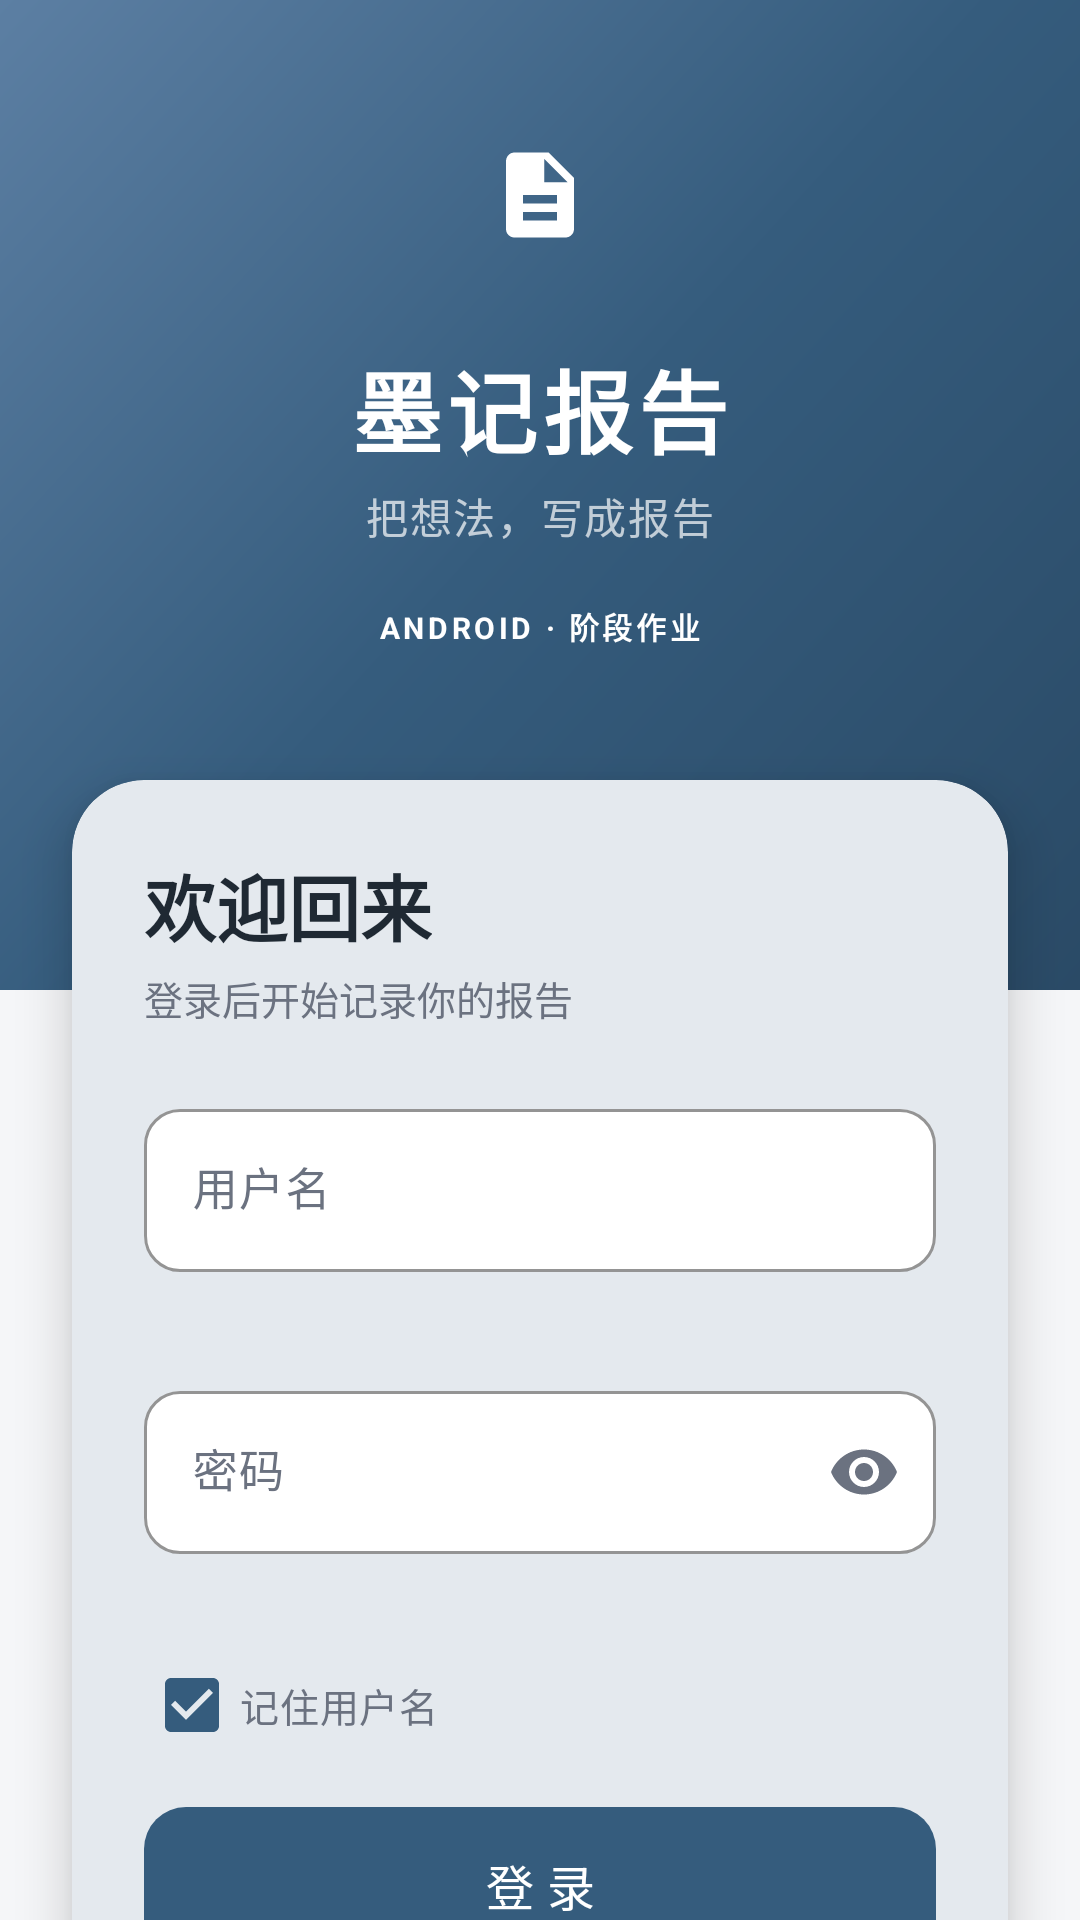

Screen size 1080×1920. Icon name, then its box in pixels as (x1, y1, x2, y2):
document: (506, 152, 574, 238)
